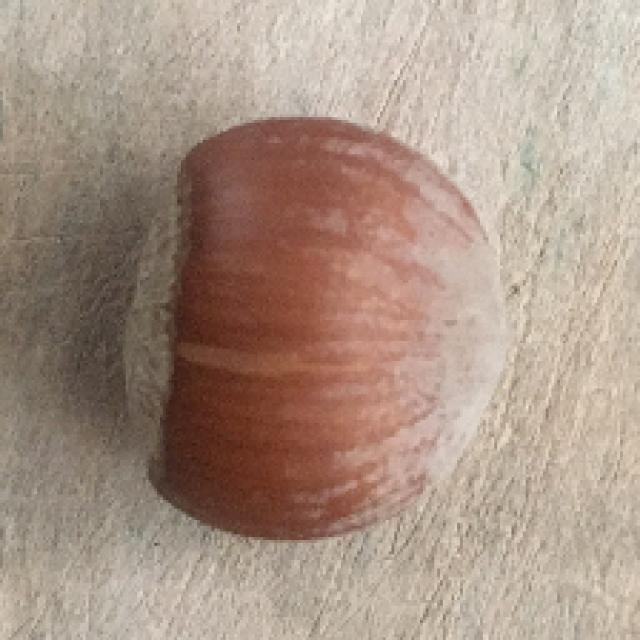QualityHazelnut: (116, 112, 506, 546)
